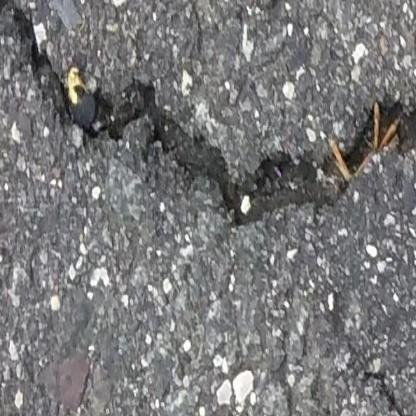Cracks: (0, 0, 416, 228), (328, 303, 416, 416)
